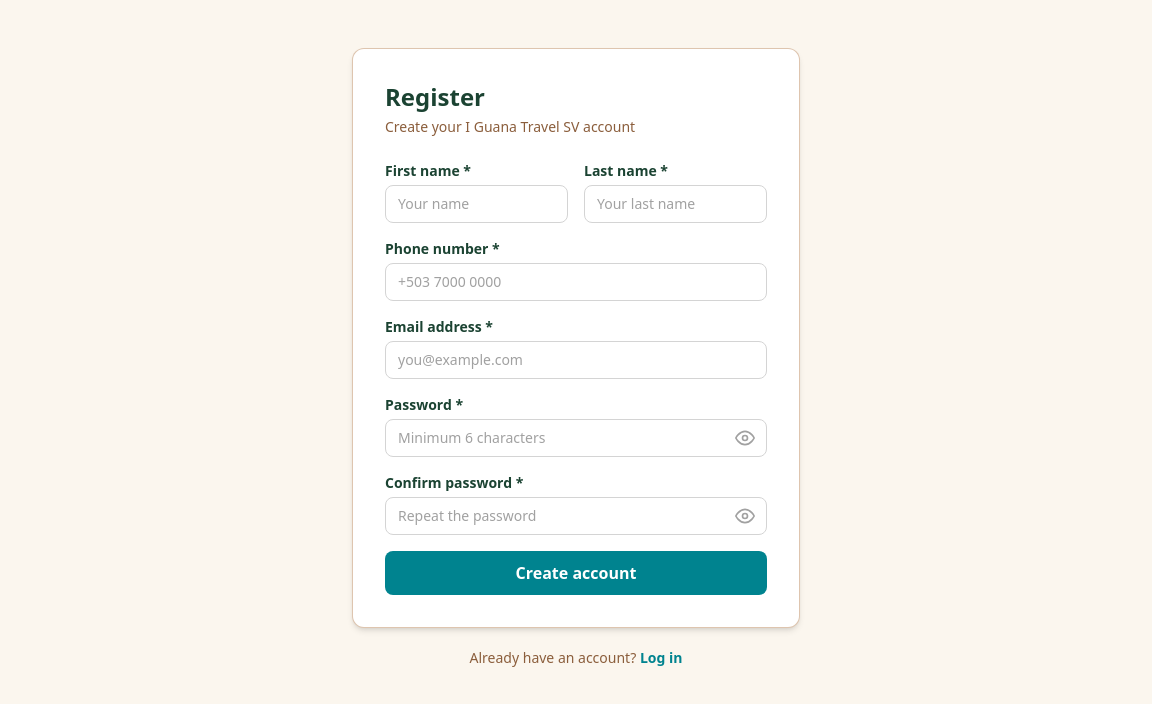
Scenario: EN active: auth chrome comes from the auth namespace › renders register headings, labels, placeholders and validation from EN resources
Expected: the heading reads "Register", [385,80,485,113]
Expected: the text "Create your I Guana Travel SV account" is shown, [385,117,635,136]
Click the button "Create account".
click(576, 573)  # box [385,551,767,595]
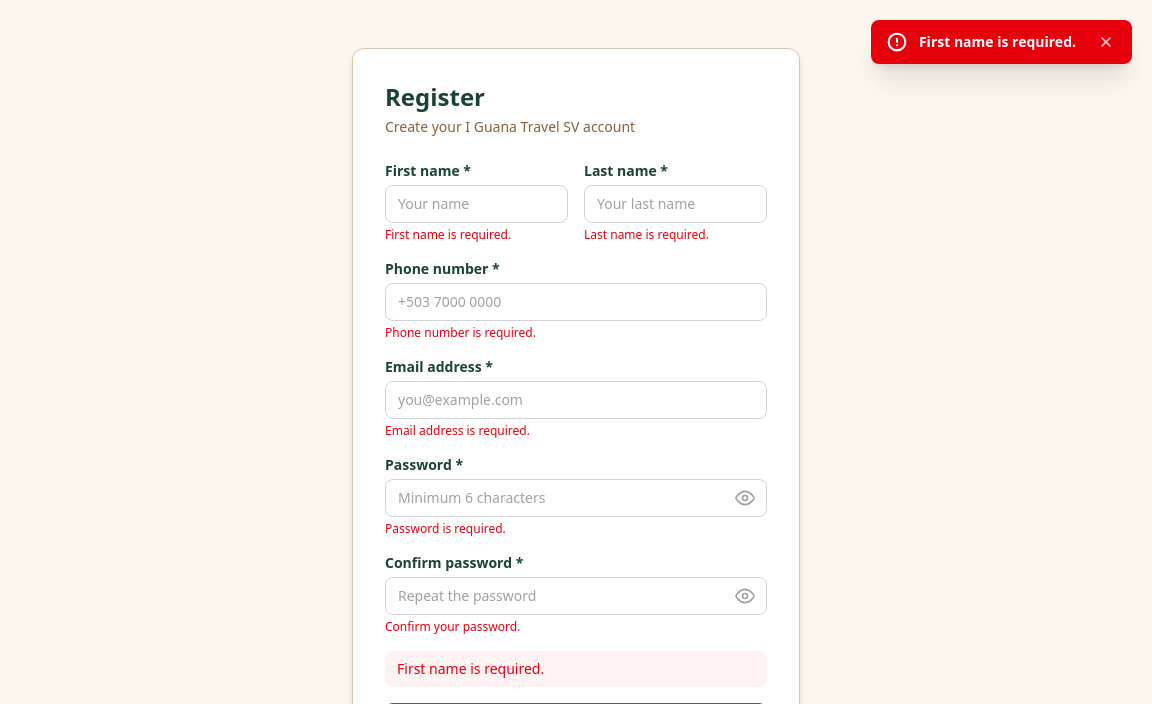
Result: the text "First name is required." is shown 3 times at [385,226,511,243]; [385,651,767,687]; [919,32,1076,52]
